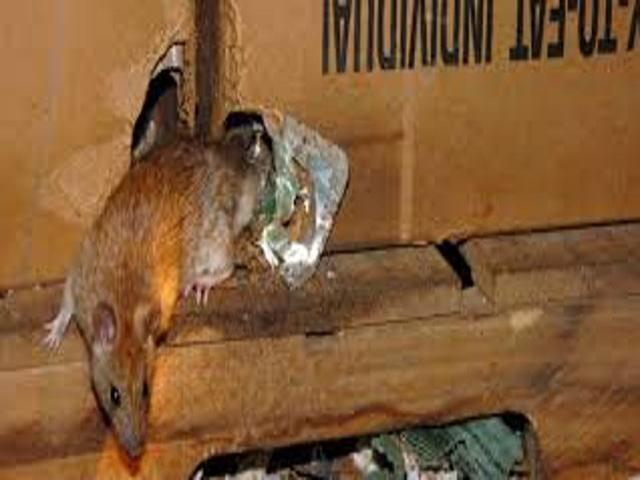Tikus: (40, 129, 257, 464)
